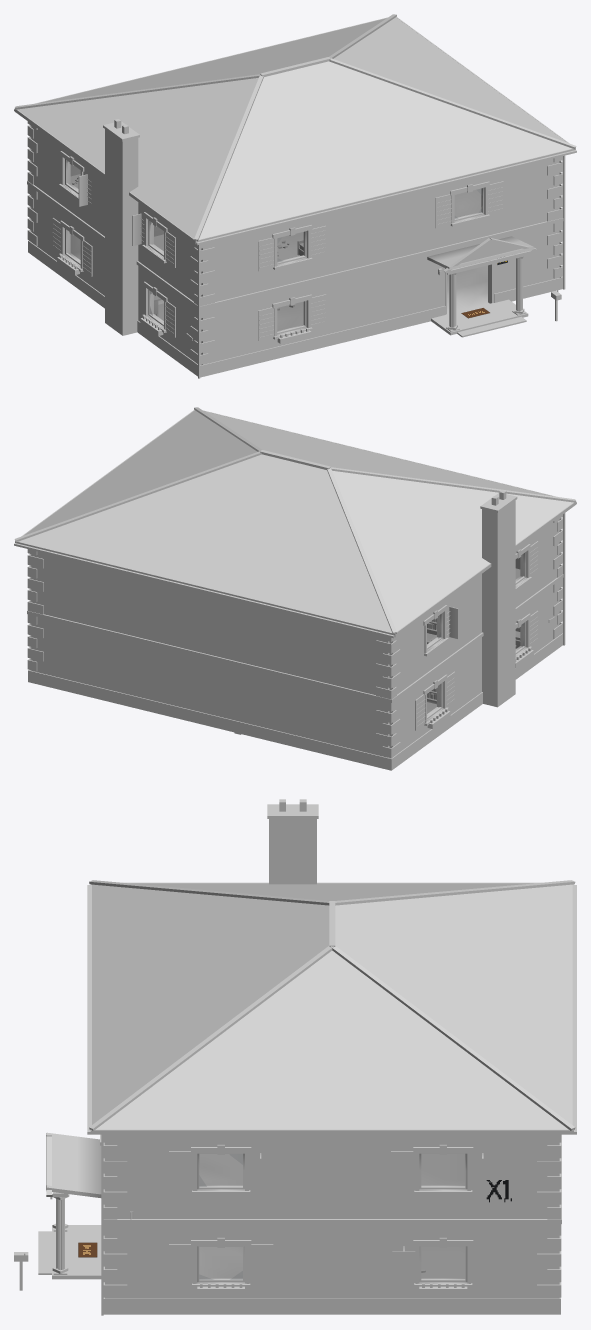
Rendered from big_house_1.glb.
3 views of the same model, one above another, from view 1: azimuth 30°, elevation 25°; view 2: azimuth 150°, elevation 25°; view 3: azimuth 270°, elevation 25° (orthographic). The views are drawn at different scales.
Visible parts, largest first — view 1: big_house_1; view 2: big_house_1; view 3: big_house_1.
Boxes of the visible parts, x1,y1,x2,y2 form: big_house_1: (14,14,576,378); big_house_1: (14,407,576,770); big_house_1: (14,799,576,1315).
Size of the model in its own units: 17.51 by 9.05 by 16.47.
4 materials, 3 textured.
